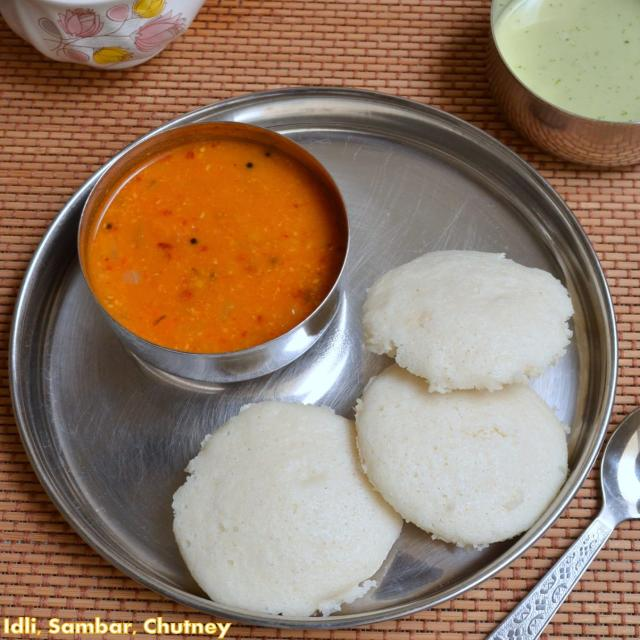Idly: (160, 393, 391, 630), (350, 355, 600, 554), (367, 244, 594, 401)
